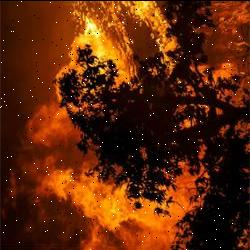fire: (64, 0, 250, 250)
